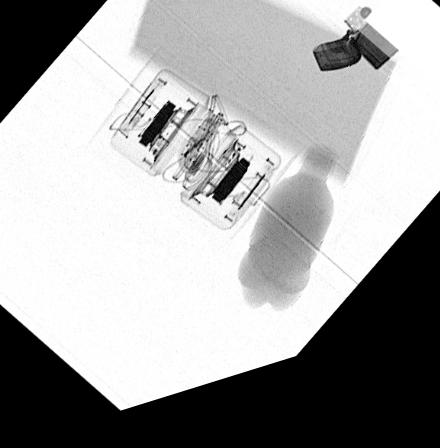Lighter: (311, 26, 407, 92)
